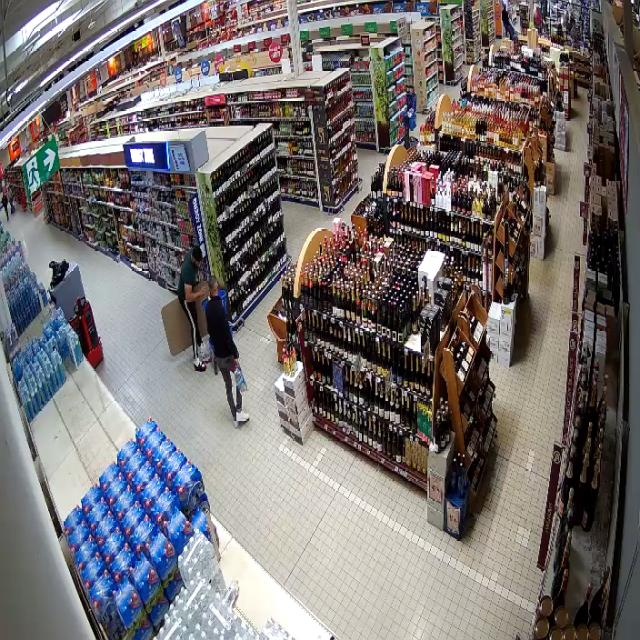article: (235, 367, 246, 392)
hands: (185, 284, 206, 301), (234, 358, 240, 369)
person: (207, 276, 248, 426), (177, 246, 205, 371)
